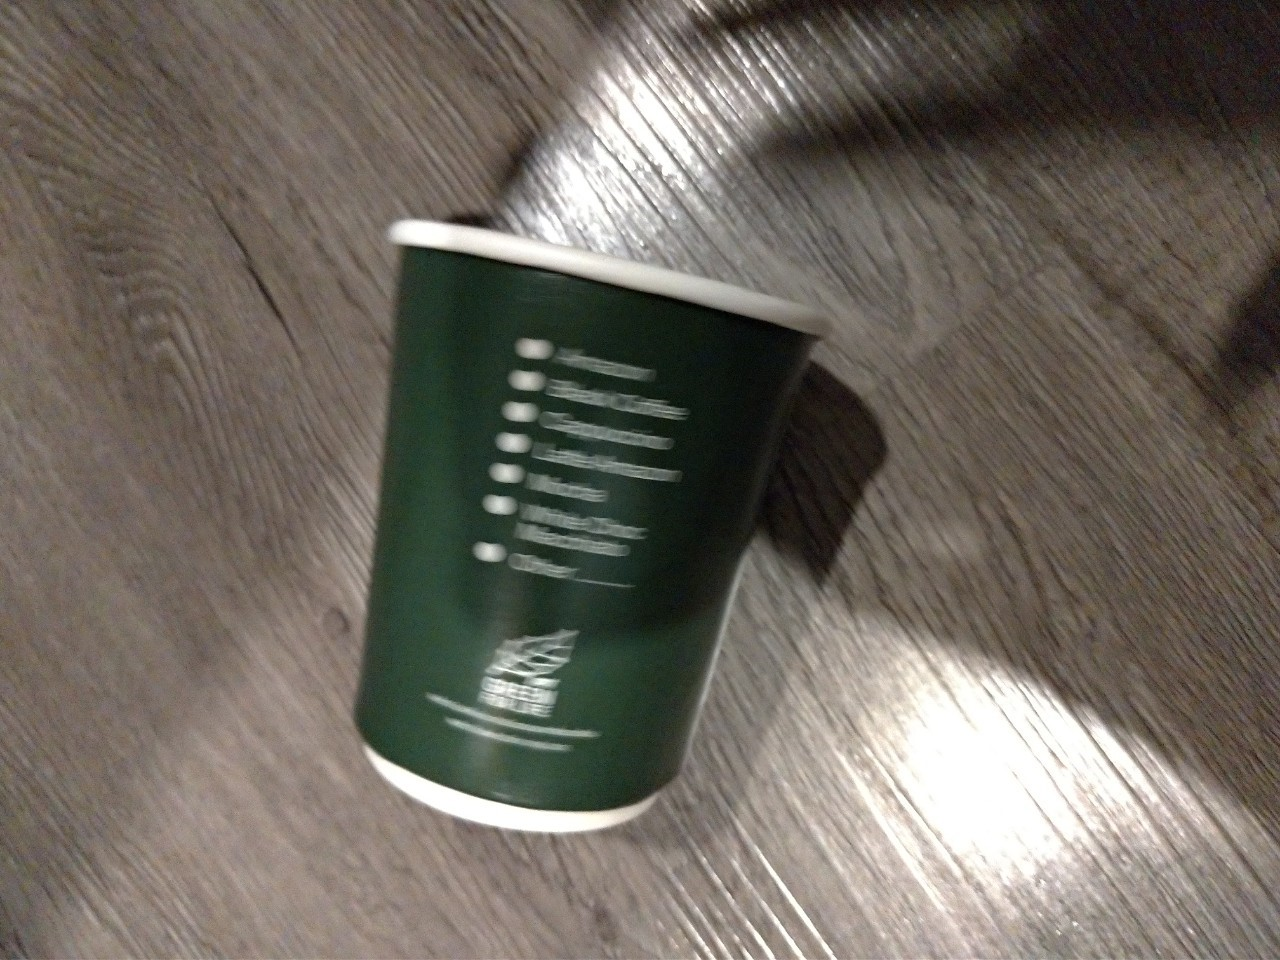PaperCup: (354, 217, 818, 831)
